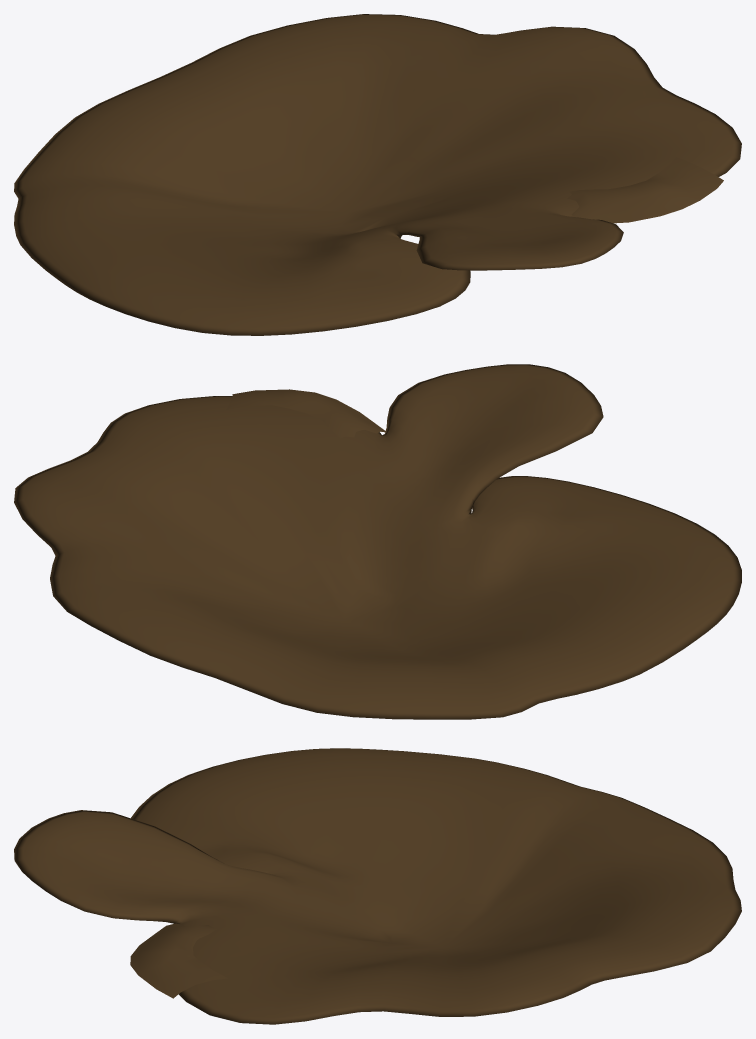
File: SM_Coral_Plate_Montipora_01.dae
3 renders of one model, top to bottom at view 1: azimuth 30°, elevation 25°; view 2: azimuth 150°, elevation 25°; view 3: azimuth 270°, elevation 25°, orthographic. The views are drawn at different scales.
Visible parts, largest first — view 1: SM_Coral_Plate_Montipora_01_LOD0; view 2: SM_Coral_Plate_Montipora_01_LOD0; view 3: SM_Coral_Plate_Montipora_01_LOD0.
Boxes of the visible parts, x1,y1,x2,y2 form: SM_Coral_Plate_Montipora_01_LOD0: (14, 14, 741, 335); SM_Coral_Plate_Montipora_01_LOD0: (14, 364, 741, 719); SM_Coral_Plate_Montipora_01_LOD0: (14, 748, 741, 1024).
Size of what is drawn, in the model's own units: 202 by 32.72 by 199.
